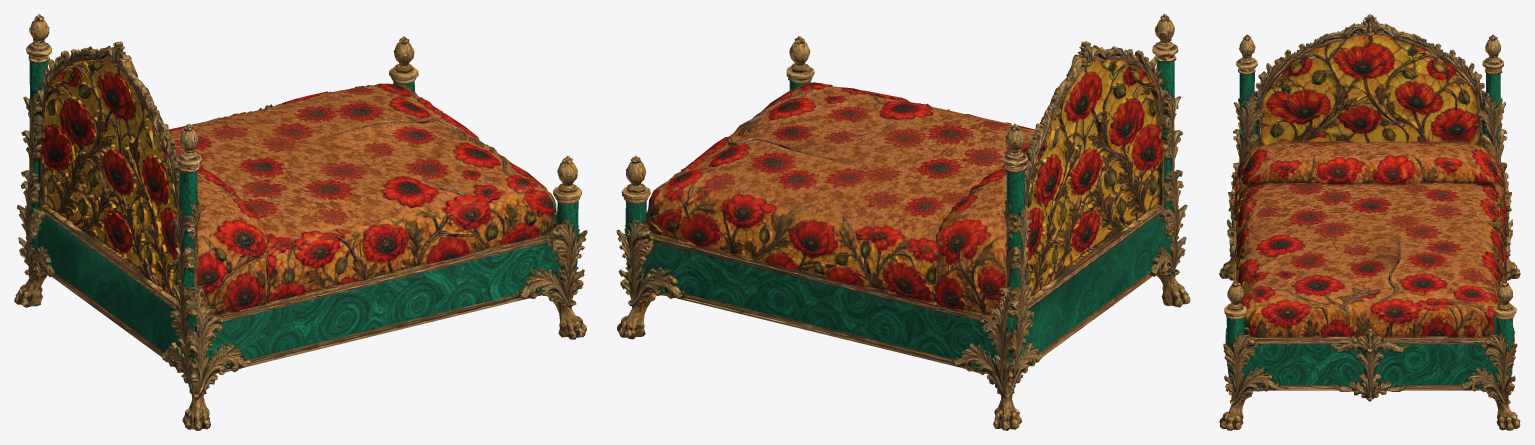
The model's file is MO-05_bed_game.glb.
3 views of the same model, side by side, from view 1: azimuth 30°, elevation 25°; view 2: azimuth 150°, elevation 25°; view 3: azimuth 270°, elevation 25° (orthographic). The views are drawn at different scales.
Visible parts, largest first — view 1: MO-05_bed; view 2: MO-05_bed; view 3: MO-05_bed.
Boxes of the visible parts, <box> form: MO-05_bed: <box>14,14,587,430</box>; MO-05_bed: <box>616,14,1190,430</box>; MO-05_bed: <box>1219,14,1520,430</box>.
Bounding box in the file's own units: 2.15 × 1.65 × 1.7.
Materials: 1 (1 with a texture image).
